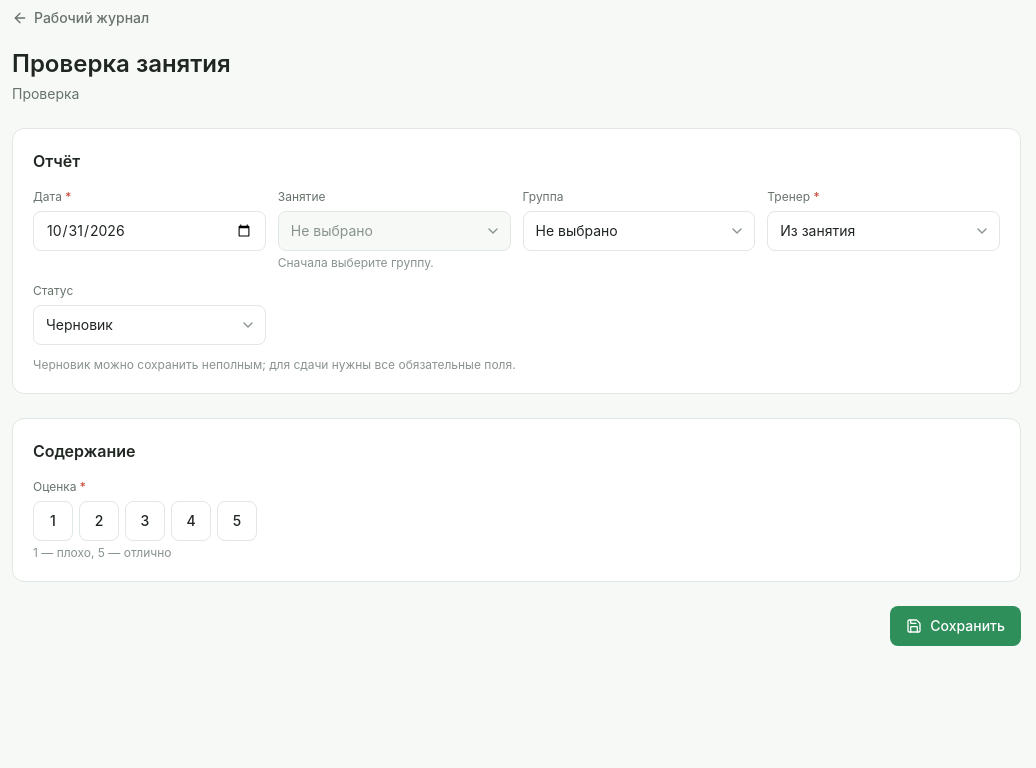
Test: Рабочий журнал › renders a new report form from its schema and maps data errors to fields
Check: the element showing "1 2 3 4 5" is shown, box [33, 501, 257, 541]
Check: the dropdown labelled "Занятие" is disabled, box [278, 211, 511, 251]
Select "Сдан" in the dropdown labelled "Статус" at (149, 325), box [33, 305, 266, 345]
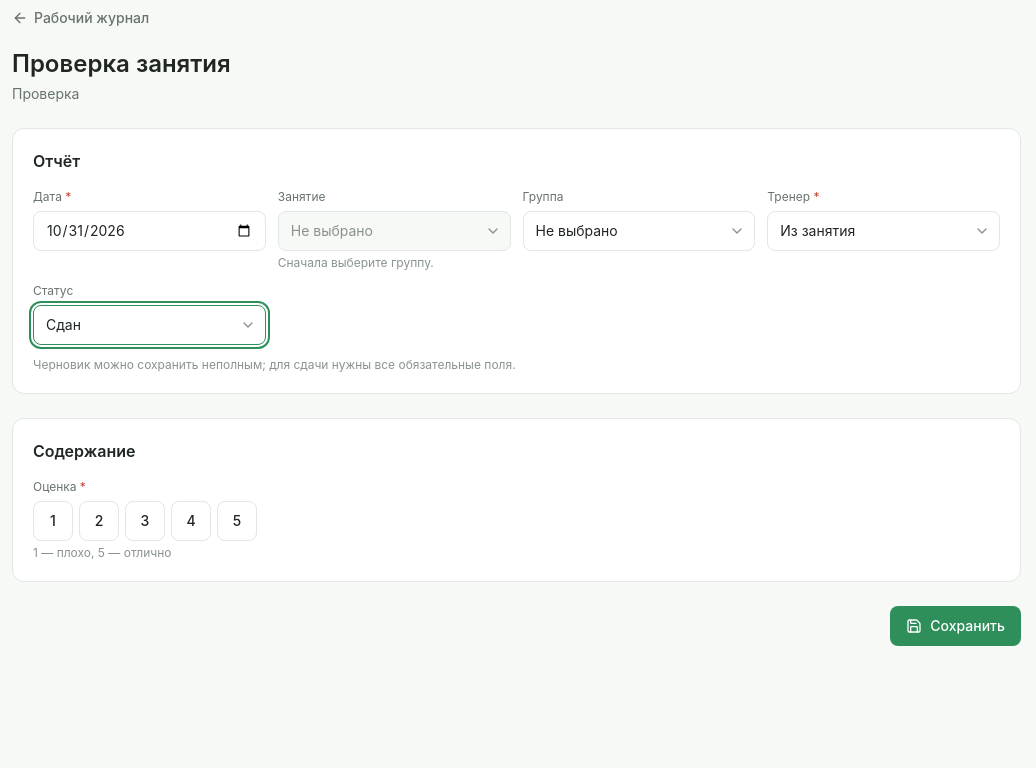
Click the button "Сохранить" at (956, 626), box [890, 606, 1021, 646]
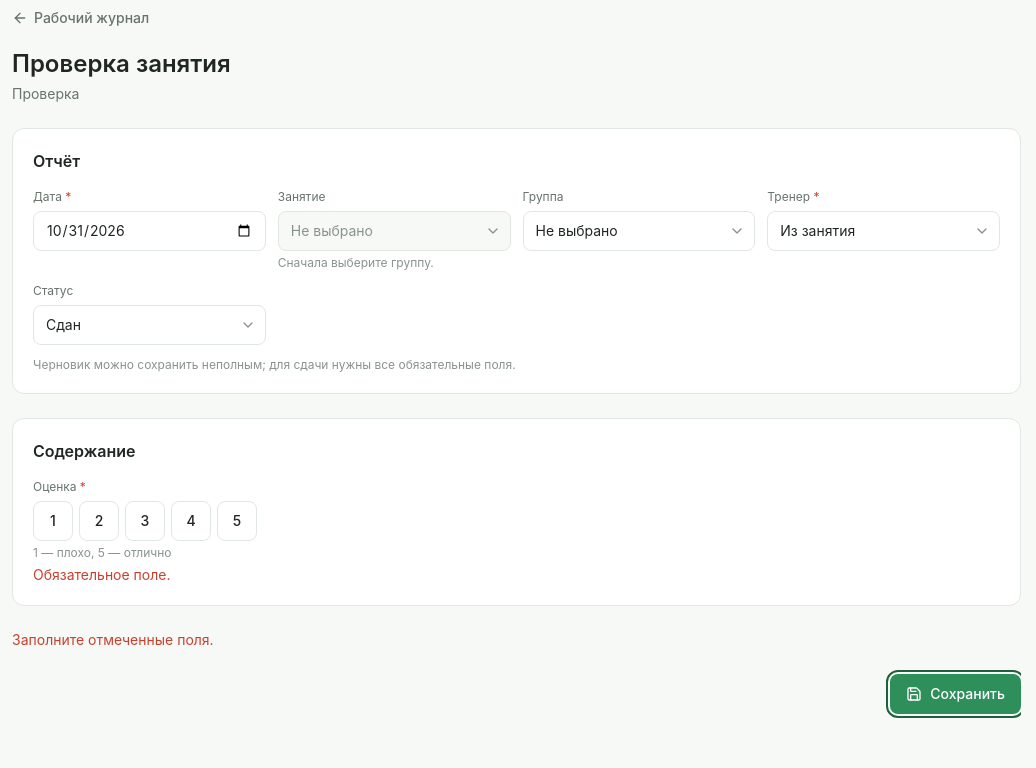
Check: the text "Обязательное поле." is shown, box [33, 566, 170, 583]
